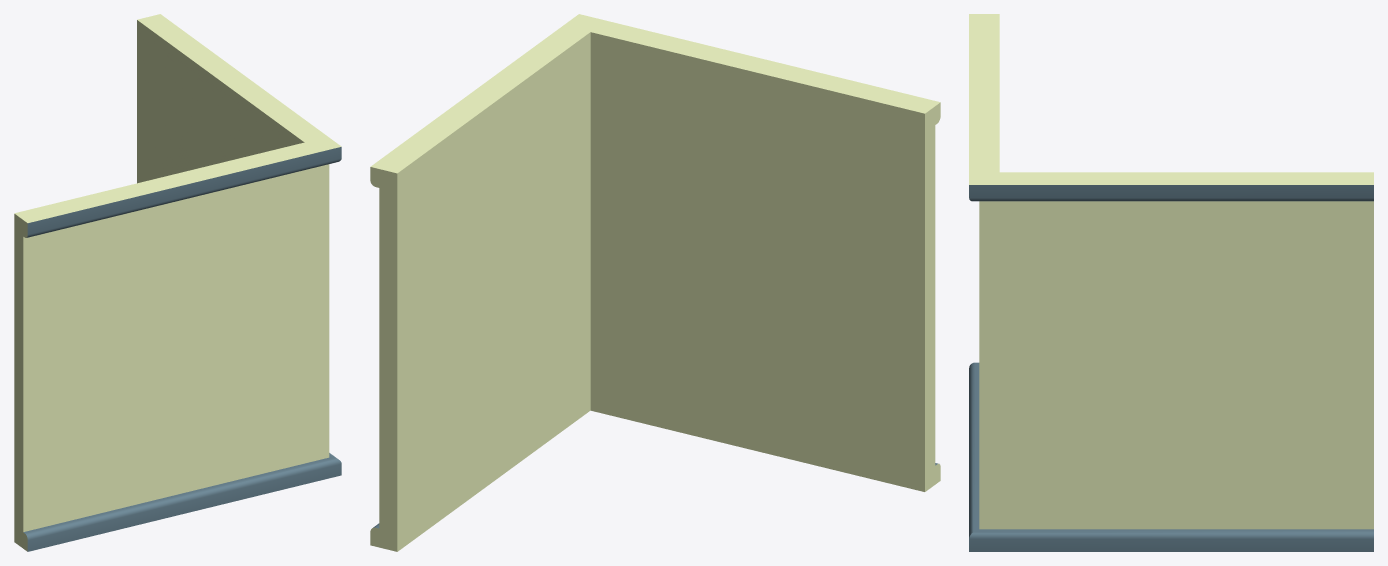
The model's file is Modular_01__Corner_01.fbx.
3 renders of one model, left to right at view 1: azimuth 30°, elevation 25°; view 2: azimuth 150°, elevation 25°; view 3: azimuth 270°, elevation 25°, orthographic. The views are drawn at different scales.
Parts seen in each view (by area): view 1: Modular_01__Corner_01; view 2: Modular_01__Corner_01; view 3: Modular_01__Corner_01.
Boxes of the visible parts, x1,y1,x2,y2 form: Modular_01__Corner_01: (14,14,341,551); Modular_01__Corner_01: (370,14,940,551); Modular_01__Corner_01: (969,14,1373,551).
Bounding box in the file's own units: 200 × 200 × 200.
